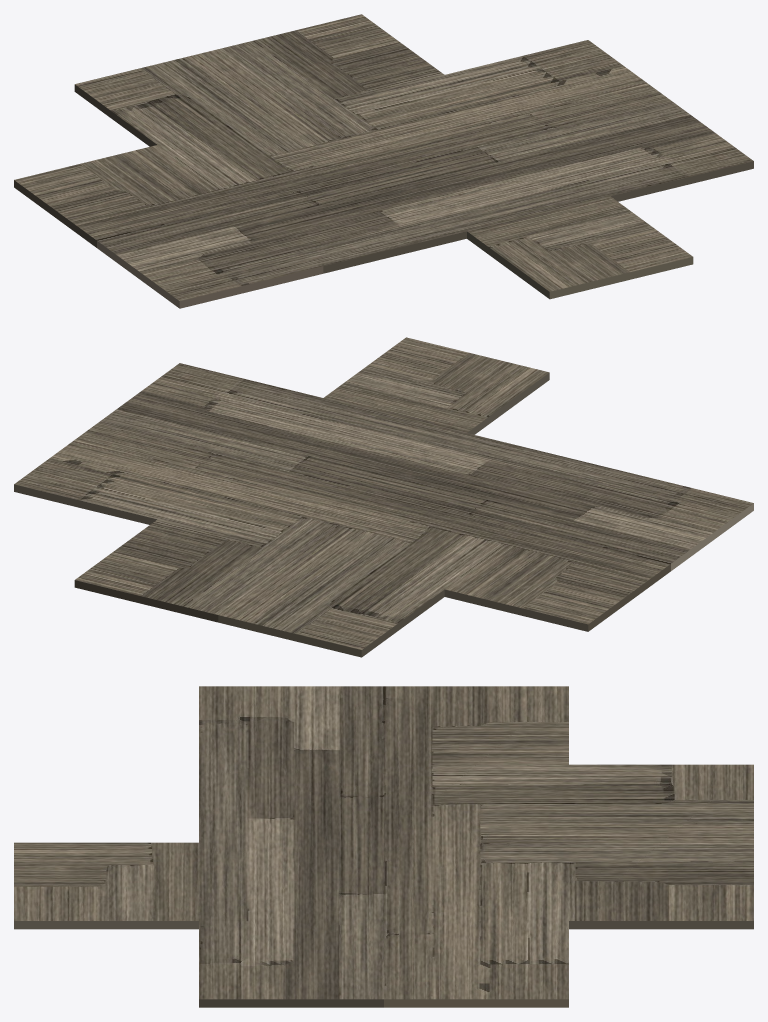
Rendered from bunkfloor.glb.
3 views of the same model, one above another, from view 1: azimuth 30°, elevation 25°; view 2: azimuth 150°, elevation 25°; view 3: azimuth 270°, elevation 25° (orthographic). The views are drawn at different scales.
Parts seen in each view (by area): view 1: bunkerFloor; view 2: bunkerFloor; view 3: bunkerFloor.
Part boxes in pixels (x1,y1,x2,y2): bunkerFloor: (14,14,753,308); bunkerFloor: (14,337,753,657); bunkerFloor: (14,686,753,1007).
Bounding box in the file's own units: 6 × 0.075 × 6.
Materials: 1 (1 with a texture image).
